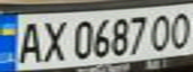0: (69, 17, 93, 61)
6: (90, 16, 115, 58)
7: (127, 12, 151, 55)
8: (109, 15, 133, 57)
A: (12, 18, 45, 64)
O: (148, 10, 175, 52), (166, 8, 193, 50)
X: (39, 17, 69, 63)
